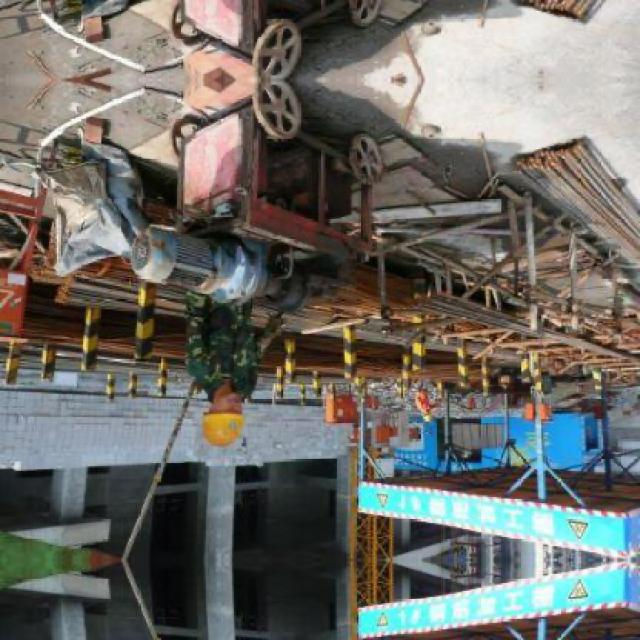con casco: (156, 371, 282, 451)
